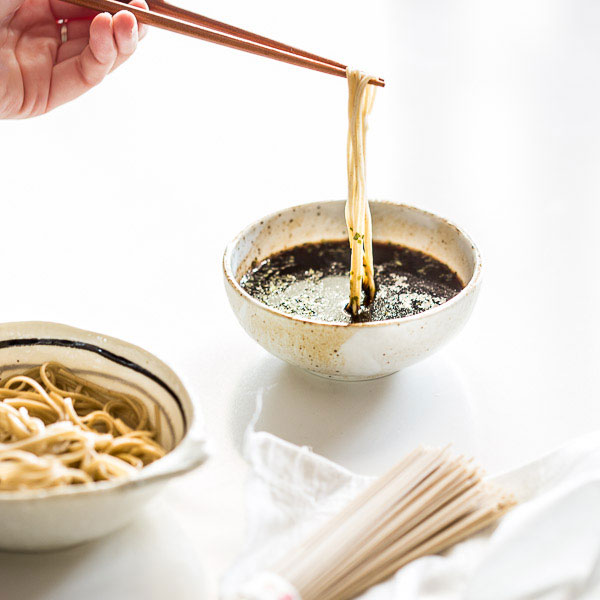Soba: (1, 362, 184, 496), (337, 65, 386, 327)
